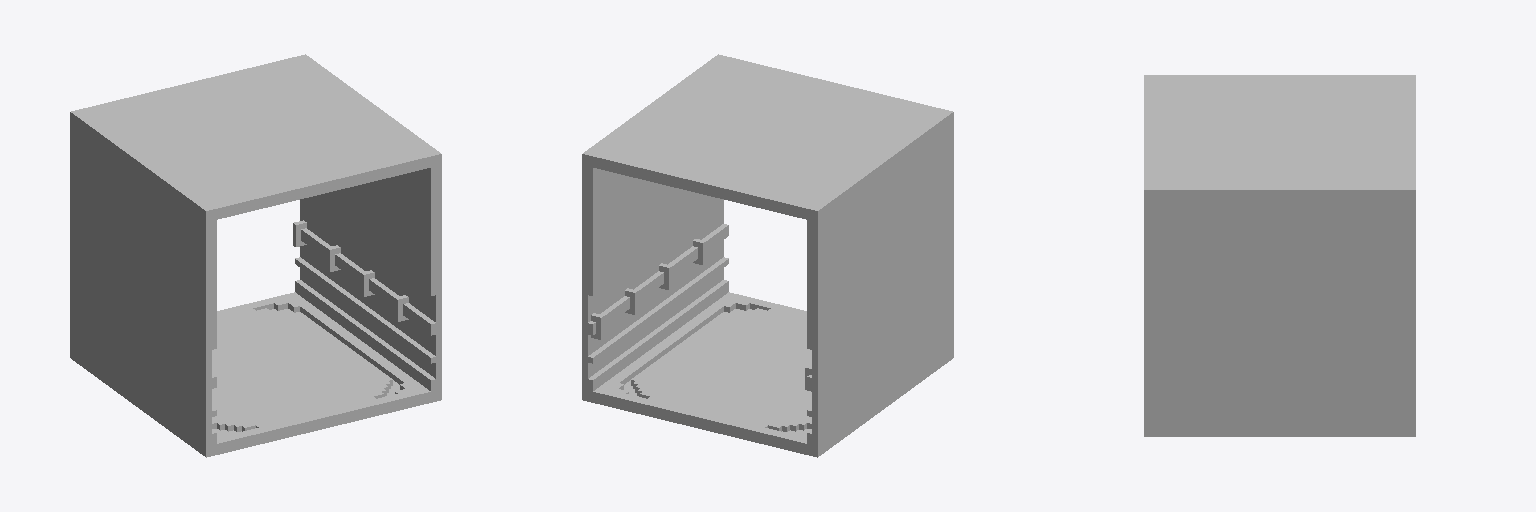
The model's file is hallway pieces-3.obj.
The picture shows the model from 3 angles: view 1: azimuth 30°, elevation 25°; view 2: azimuth 150°, elevation 25°; view 3: azimuth 270°, elevation 25°; orthographic projection.
Visible parts, largest first — view 1: object 1; view 2: object 1; view 3: object 1.
Boxes of the visible parts, box(x1,y1,x2,y2) form: object 1: box(70, 54, 441, 457); object 1: box(582, 54, 953, 457); object 1: box(1144, 75, 1415, 436).
Bounding box in the file's own units: 4.4 × 4.4 × 4.4.